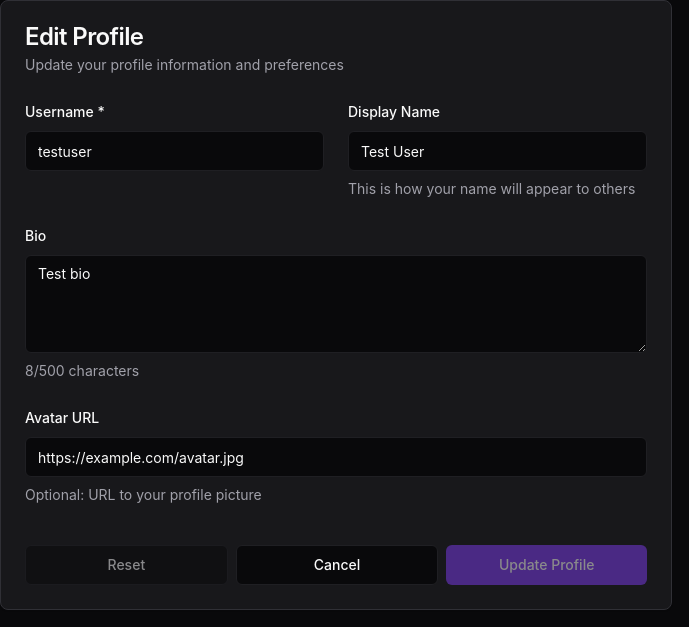
Test: UserProfileForm › shows username availability status
The image size is (689, 627).
Replace the text in the field showing "testuser" with "takenuser" at (174, 151), box top-left (25, 131), bottom-right (324, 171)
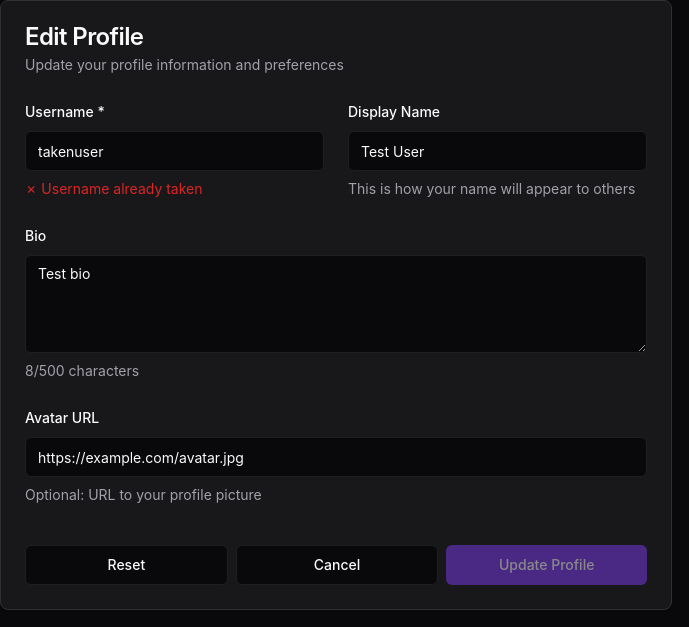
Expected: the text "✗ Username already taken" is shown, top-left (25, 180), bottom-right (202, 197)
